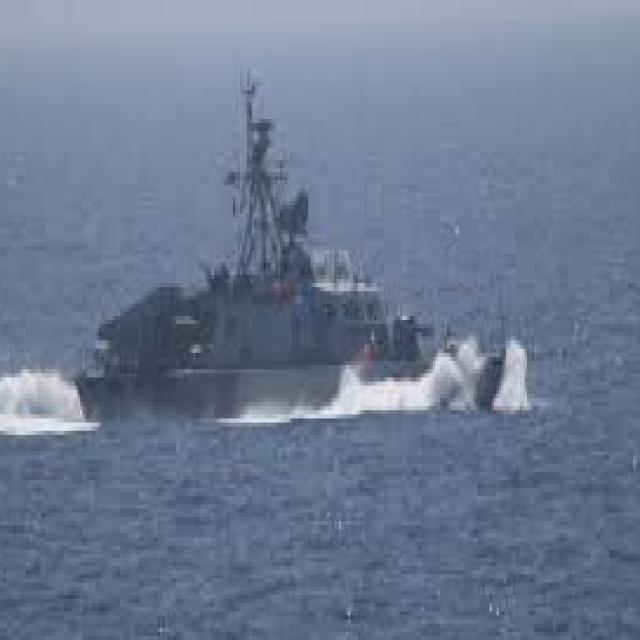navalvessels: (73, 48, 521, 453)
